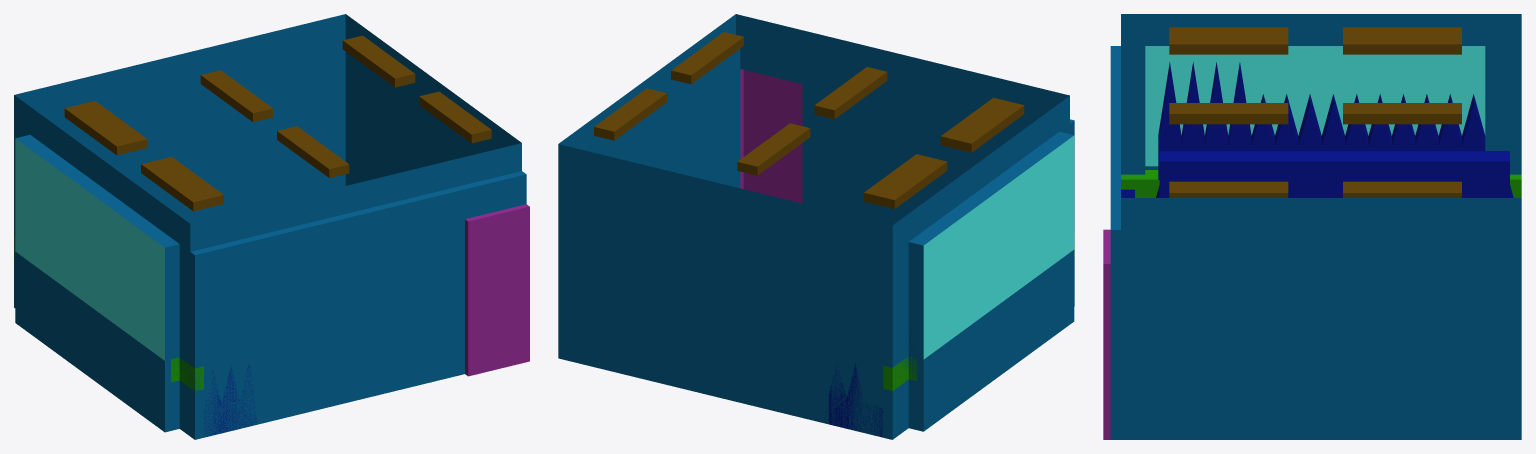
3 renders of one model, left to right at view 1: azimuth 30°, elevation 25°; view 2: azimuth 150°, elevation 25°; view 3: azimuth 270°, elevation 25°, orthographic. The views are drawn at different scales.
Parts seen in each view (by area): view 1: Group10, Group9, Group11, Group6, Group2, Group4, Group3, Group5, Group7, Group8, AbsorptionWedge17; view 2: Group10, Group9, Group11, Group2, Group6, Group7, Group5, Group3, Group4, Group8, AbsorptionWedge24, AbsorptionWedge20; view 3: Group10, Group9, Group2, Group6, Group5, Group7, Group3, Group4, Group11, Group16, AbsorptionWedge2, AbsorptionWedge7 (+27 smaller).
Boxes of the visible parts, left/top/right/bottom form: Group10: left=14, top=14, right=526, bottom=439; Group9: left=15, top=138, right=164, bottom=360; Group11: left=465, top=204, right=529, bottom=376; Group6: left=64, top=101, right=147, bottom=155; Group2: left=141, top=156, right=223, bottom=211; Group4: left=342, top=35, right=415, bottom=87; Group3: left=419, top=91, right=491, bottom=143; Group5: left=277, top=126, right=349, bottom=177; Group7: left=200, top=70, right=272, bottom=122; Group8: left=14, top=236, right=203, bottom=391; AbsorptionWedge17: left=222, top=365, right=239, bottom=432; Group10: left=558, top=14, right=1074, bottom=439; Group9: left=923, top=135, right=1074, bottom=359; Group11: left=740, top=69, right=802, bottom=203; Group2: left=940, top=97, right=1024, bottom=152; Group6: left=864, top=154, right=947, bottom=208; Group7: left=737, top=123, right=810, bottom=175; Group5: left=814, top=67, right=887, bottom=119; Group3: left=671, top=32, right=743, bottom=84; Group4: left=594, top=88, right=666, bottom=140; Group8: left=883, top=235, right=1074, bottom=390; AbsorptionWedge24: left=828, top=364, right=846, bottom=428; AbsorptionWedge20: left=846, top=364, right=863, bottom=432; Group10: left=1110, top=14, right=1521, bottom=439; Group9: left=1145, top=46, right=1485, bottom=166; Group2: left=1169, top=27, right=1288, bottom=54; Group6: left=1343, top=27, right=1461, bottom=54; Group5: left=1169, top=103, right=1288, bottom=124; Group7: left=1343, top=103, right=1461, bottom=124; Group3: left=1169, top=181, right=1288, bottom=197; Group4: left=1343, top=181, right=1461, bottom=197; Group11: left=1103, top=229, right=1110, bottom=439; Group16: left=1158, top=62, right=1181, bottom=179; AbsorptionWedge2: left=1463, top=151, right=1486, bottom=197; AbsorptionWedge7: left=1486, top=151, right=1509, bottom=197.
Bounding box in the file's own units: 4.87 × 2.86 × 4.48.
